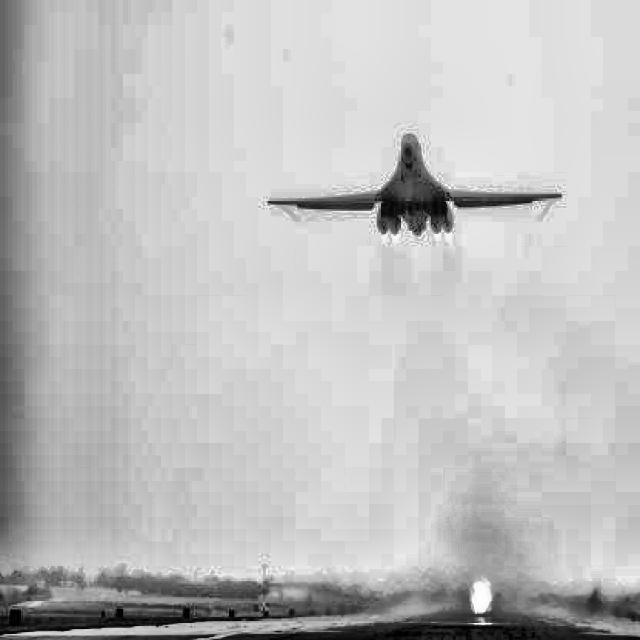B1: (267, 133, 562, 236)
